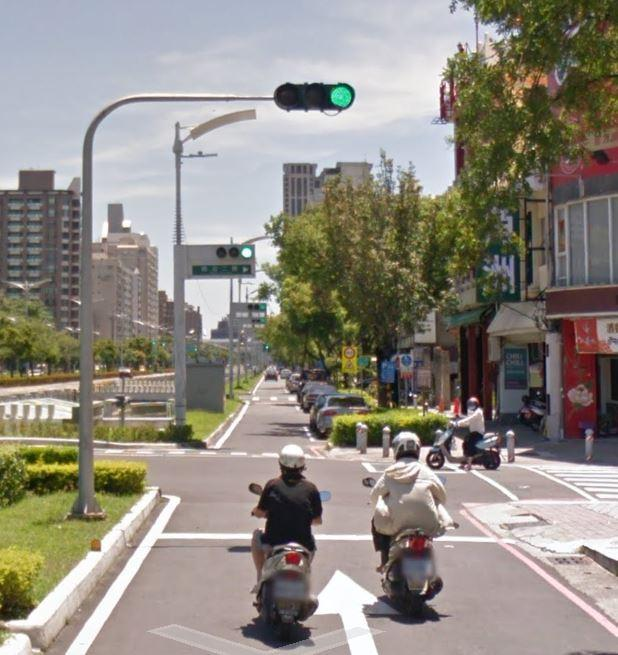green_traffic_light: (270, 77, 357, 117), (213, 243, 253, 258)
motorcycle: (239, 480, 330, 638), (360, 466, 448, 615), (424, 416, 501, 471)
